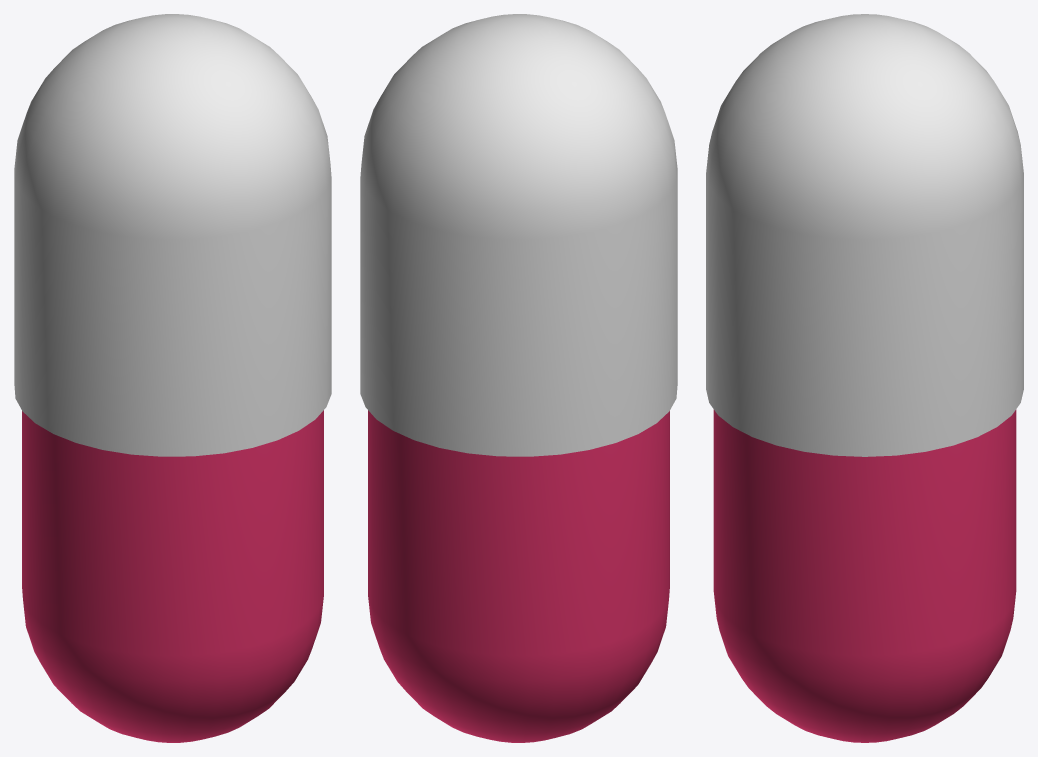
The model's file is Gelule.glb.
3 renders of one model, left to right at view 1: azimuth 30°, elevation 25°; view 2: azimuth 150°, elevation 25°; view 3: azimuth 270°, elevation 25°, orthographic.
Visible parts, largest first — view 1: Haut, Bas; view 2: Haut, Bas; view 3: Haut, Bas.
Boxes of the visible parts, x1,y1,x2,y2 form: Haut: (14,14,331,456); Bas: (22,410,323,742); Haut: (360,14,677,456); Bas: (368,410,669,742); Haut: (706,14,1023,456); Bas: (713,409,1016,742).
Bounding box in the file's own units: 2 × 4.86 × 2.
